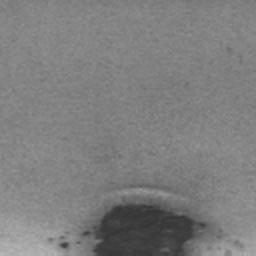Iron sheet ash: (82, 204, 211, 256), (58, 241, 69, 247)
